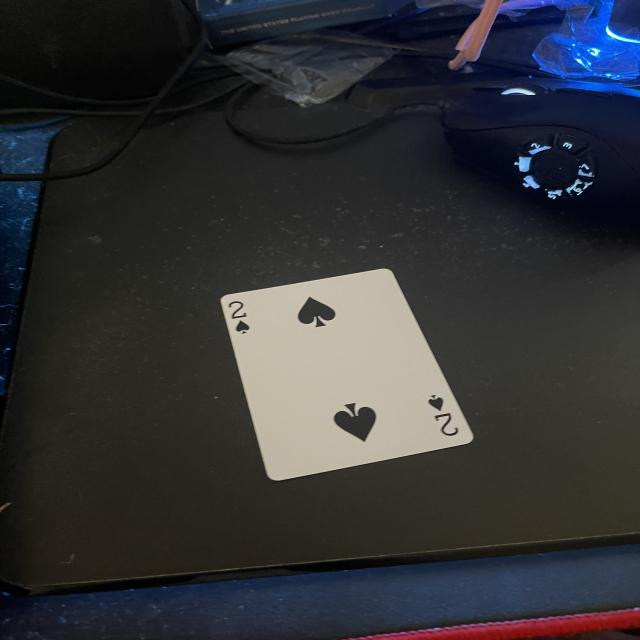2 of spades: (219, 267, 476, 482)
